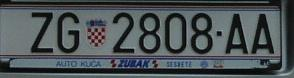-: (215, 30, 224, 37)
0: (165, 12, 186, 54)
2: (113, 11, 135, 54)
8: (139, 13, 160, 54), (192, 12, 212, 54)
A: (226, 12, 249, 54), (252, 14, 274, 54)
G: (58, 12, 80, 53)
Z: (30, 10, 55, 53)
